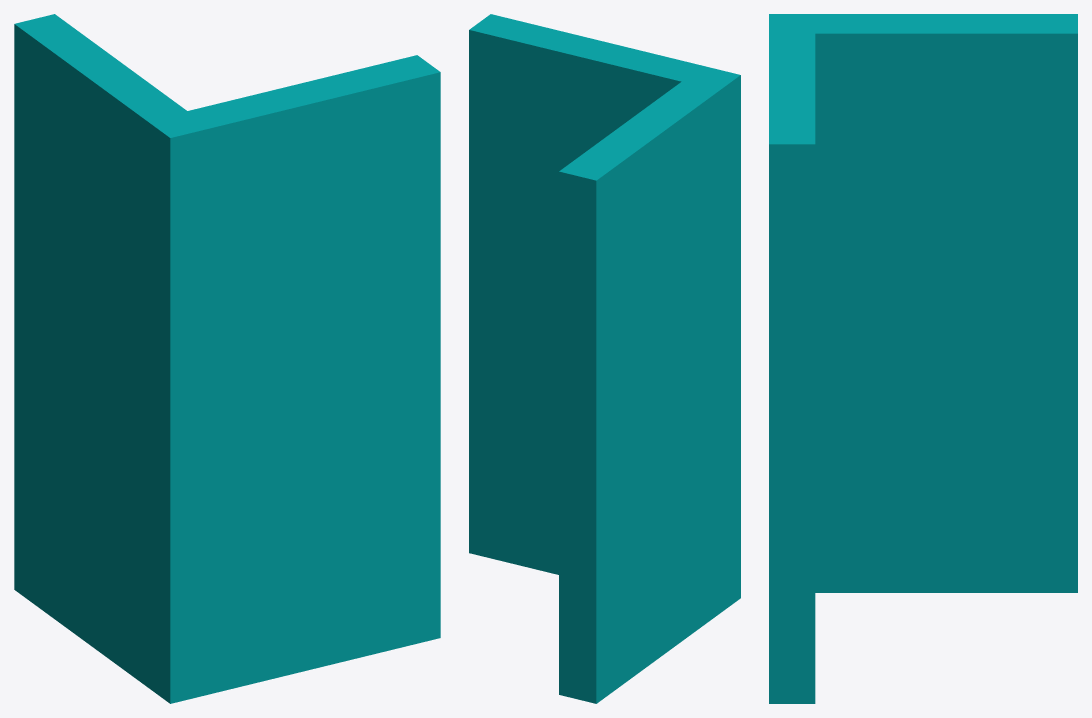
File: TurquoiseCorner.glb
3 renders of one model, left to right at view 1: azimuth 30°, elevation 25°; view 2: azimuth 150°, elevation 25°; view 3: azimuth 270°, elevation 25°, orthographic. The views are drawn at different scales.
Parts seen in each view (by area): view 1: wall_plain_corner_turquoise; view 2: wall_plain_corner_turquoise; view 3: wall_plain_corner_turquoise.
Part boxes in pixels (<box>): wall_plain_corner_turquoise: <box>14,14,440,703</box>; wall_plain_corner_turquoise: <box>469,14,740,703</box>; wall_plain_corner_turquoise: <box>769,14,1077,703</box>.
Size of what is drawn, in the model's own units: 2 by 4 by 2.
Materials: 1 (1 with a texture image).
